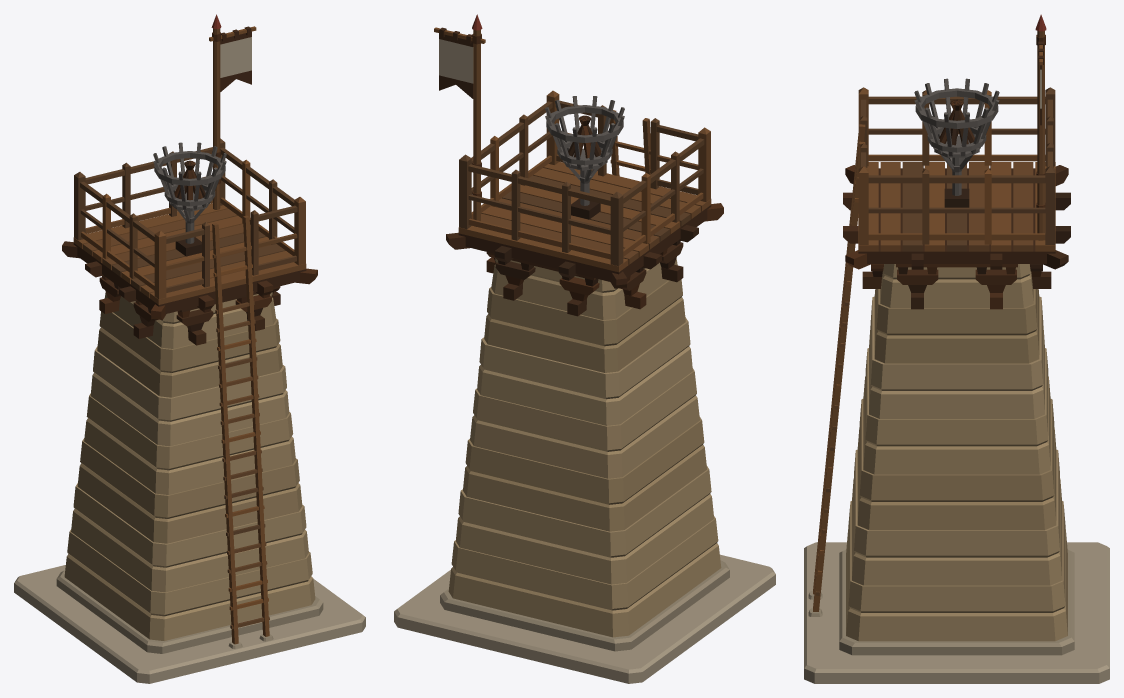
Rendered from signal-beacon-tower-9c0d1a.glb.
3 views of the same model, side by side, from view 1: azimuth 30°, elevation 25°; view 2: azimuth 150°, elevation 25°; view 3: azimuth 270°, elevation 25° (orthographic). The views are drawn at different scales.
Visible parts, largest first — view 1: tower, ladder-mesh, banner-cloth-mesh; view 2: tower, banner-cloth-mesh, ladder-mesh; view 3: tower, ladder-mesh.
Part boxes in pixels (bbox=[...]): tower: bbox=[14, 14, 365, 683]; ladder-mesh: bbox=[212, 215, 269, 644]; banner-cloth-mesh: bbox=[220, 26, 251, 91]; tower: bbox=[394, 14, 775, 683]; banner-cloth-mesh: bbox=[439, 27, 473, 98]; ladder-mesh: bbox=[609, 110, 650, 176]; tower: bbox=[804, 14, 1109, 683]; ladder-mesh: bbox=[813, 124, 865, 611].
Bounding box in the file's own units: 4 × 9.25 × 4.
